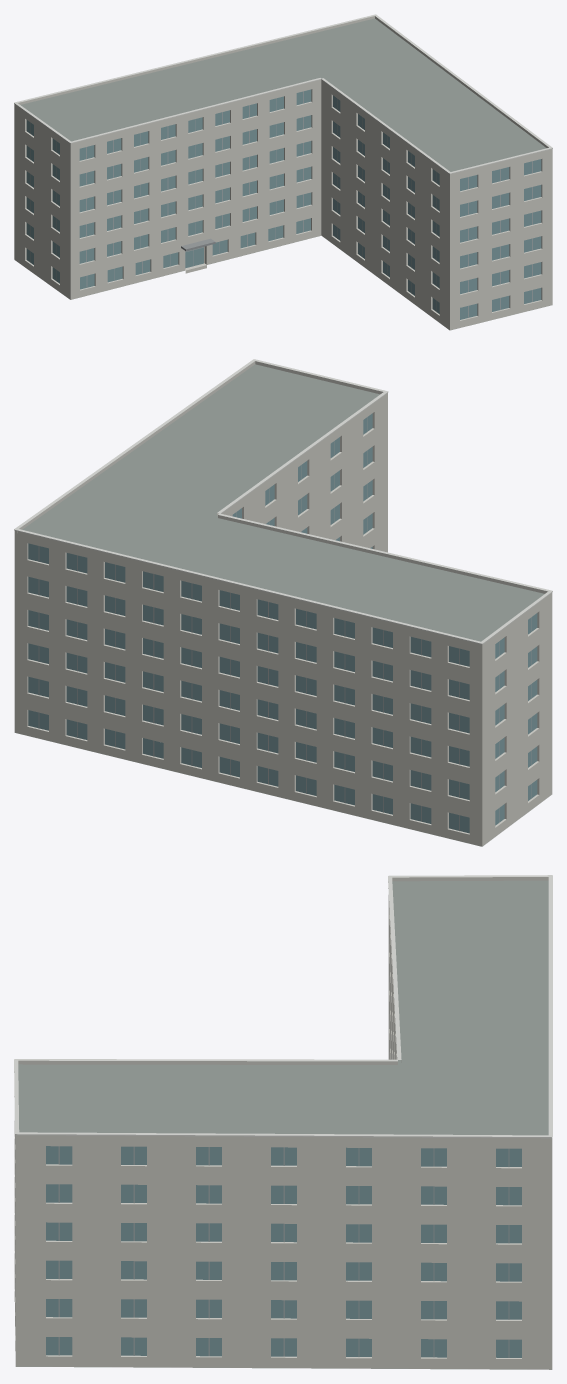
The picture shows the model from 3 angles, top to bottom: view 1: azimuth 30°, elevation 25°; view 2: azimuth 150°, elevation 25°; view 3: azimuth 270°, elevation 25°; orthographic projection. The views are drawn at different scales.
Visible parts, largest first — view 1: humanities__wall, humanities__roof, humanities__glass, humanities__trim, humanities__parapet, humanities__frame; view 2: humanities__wall, humanities__roof, humanities__glass, humanities__trim, humanities__parapet, humanities__frame; view 3: humanities__wall, humanities__roof, humanities__glass, humanities__trim, humanities__parapet, humanities__frame.
Boxes of the visible parts, left/top/right/bottom form: humanities__wall: left=14, top=81, right=552, bottom=330; humanities__roof: left=19, top=18, right=549, bottom=330; humanities__glass: left=26, top=89, right=541, bottom=319; humanities__trim: left=14, top=14, right=552, bottom=174; humanities__parapet: left=14, top=16, right=552, bottom=175; humanities__frame: left=30, top=91, right=532, bottom=317; humanities__wall: left=14, top=395, right=552, bottom=846; humanities__roof: left=16, top=364, right=549, bottom=846; humanities__glass: left=28, top=413, right=537, bottom=833; humanities__trim: left=14, top=359, right=552, bottom=644; humanities__parapet: left=14, top=361, right=552, bottom=646; humanities__frame: left=38, top=417, right=531, bottom=831; humanities__wall: left=14, top=896, right=552, bottom=1369; humanities__roof: left=16, top=880, right=551, bottom=1369; humanities__glass: left=46, top=1146, right=521, bottom=1357; humanities__trim: left=14, top=875, right=552, bottom=1138; humanities__parapet: left=15, top=877, right=552, bottom=1140; humanities__frame: left=58, top=1146, right=509, bottom=1357.
Size of the model in its own units: 52.99 by 22.35 by 46.07.
